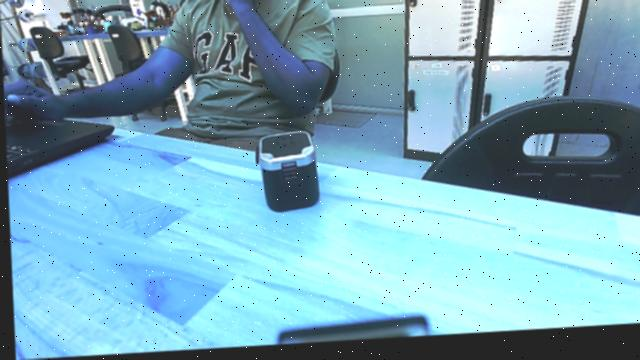adapter: (253, 131, 325, 218)
